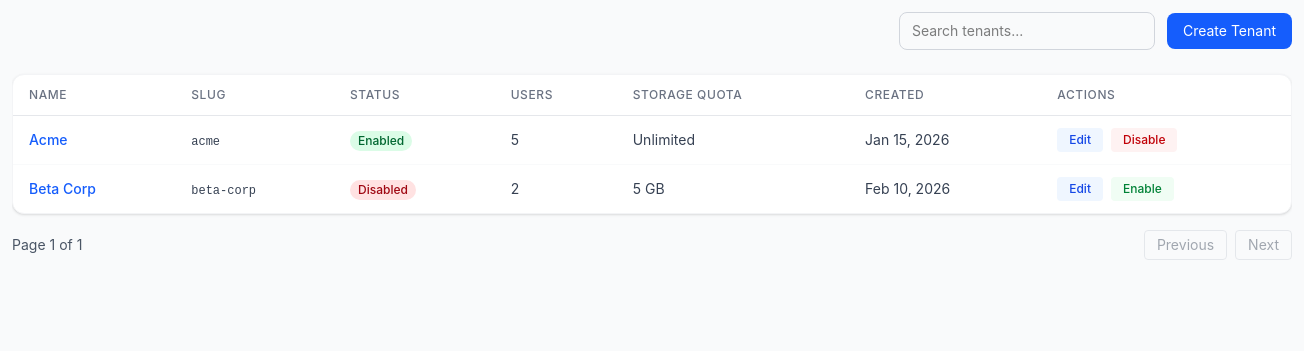
Test case: TenantsPage › shows error when updateTenant fails
This screenshot has width=1304, height=351.
Click the button "Enable": (1142, 189) [1111,177,1174,201]
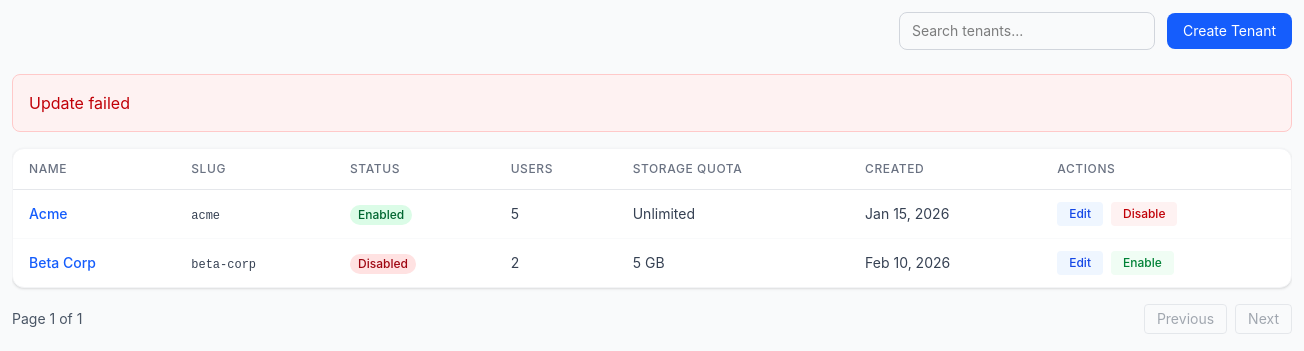
expect the text "Update failed" is shown: met, box [12,74,1292,132]
